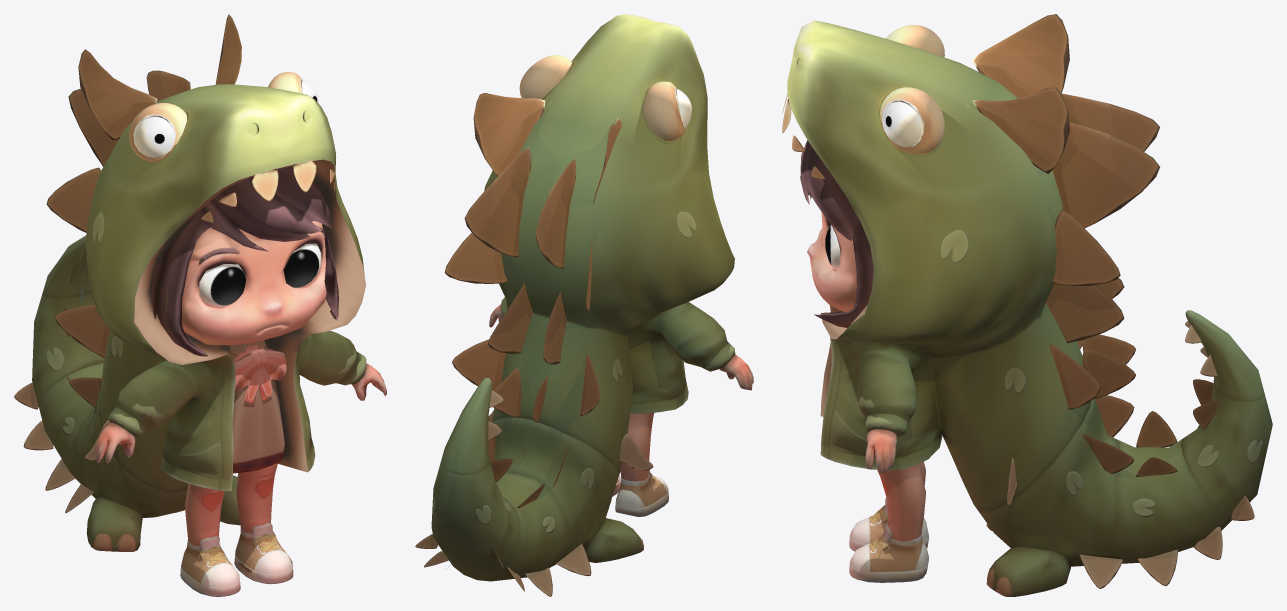
File: child_dino_test.glb
3 renders of one model, left to right at view 1: azimuth 30°, elevation 25°; view 2: azimuth 150°, elevation 25°; view 3: azimuth 270°, elevation 25°, orthographic. The views are drawn at different scales.
Parts seen in each view (by area): view 1: LP_ProjectionDone; view 2: LP_ProjectionDone; view 3: LP_ProjectionDone.
Boxes of the visible parts, box(x1,y1,x2,y2) form: LP_ProjectionDone: box(14, 14, 386, 596); LP_ProjectionDone: box(415, 14, 753, 596); LP_ProjectionDone: box(782, 14, 1272, 596).
Bounding box in the file's own units: 8.81 × 14.58 × 12.43.
1 material, 1 textured.
